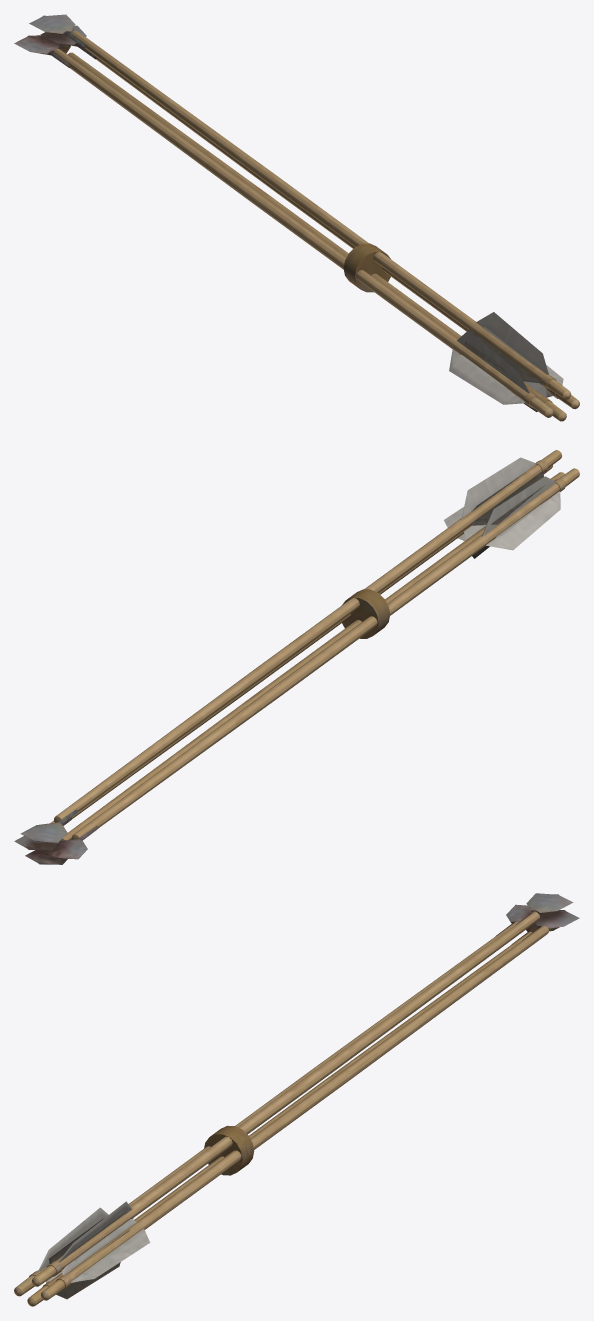
The model's file is arrows_leaf.glb.
3 renders of one model, top to bottom at view 1: azimuth 30°, elevation 25°; view 2: azimuth 150°, elevation 25°; view 3: azimuth 330°, elevation 25°, orthographic.
Parts seen in each view (by area): view 1: arrows_leaf; view 2: arrows_leaf; view 3: arrows_leaf.
Part boxes in pixels (x1,y1,x2,y2): arrows_leaf: [14, 14, 579, 421]; arrows_leaf: [14, 450, 579, 864]; arrows_leaf: [14, 893, 579, 1306].
Bounding box in the file's own units: 0.0656 × 0.0575 × 0.822.
Materials: 1 (1 with a texture image).
